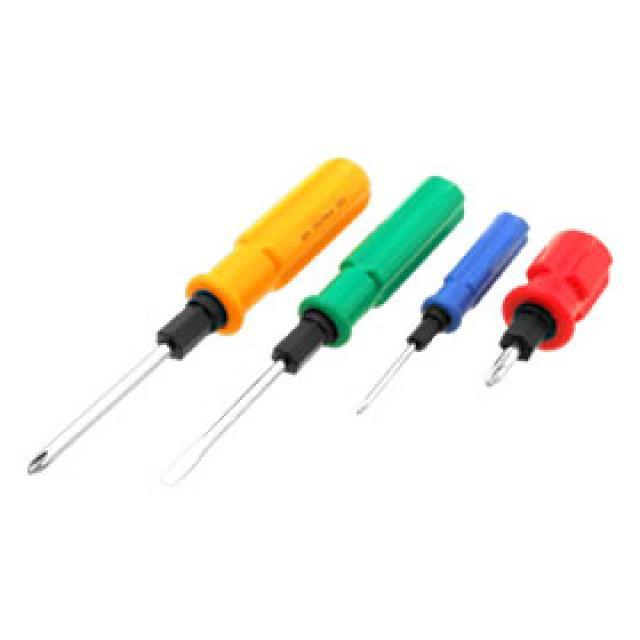screwdriver: (12, 148, 384, 484), (159, 170, 464, 500), (350, 201, 530, 423), (473, 221, 627, 396)
